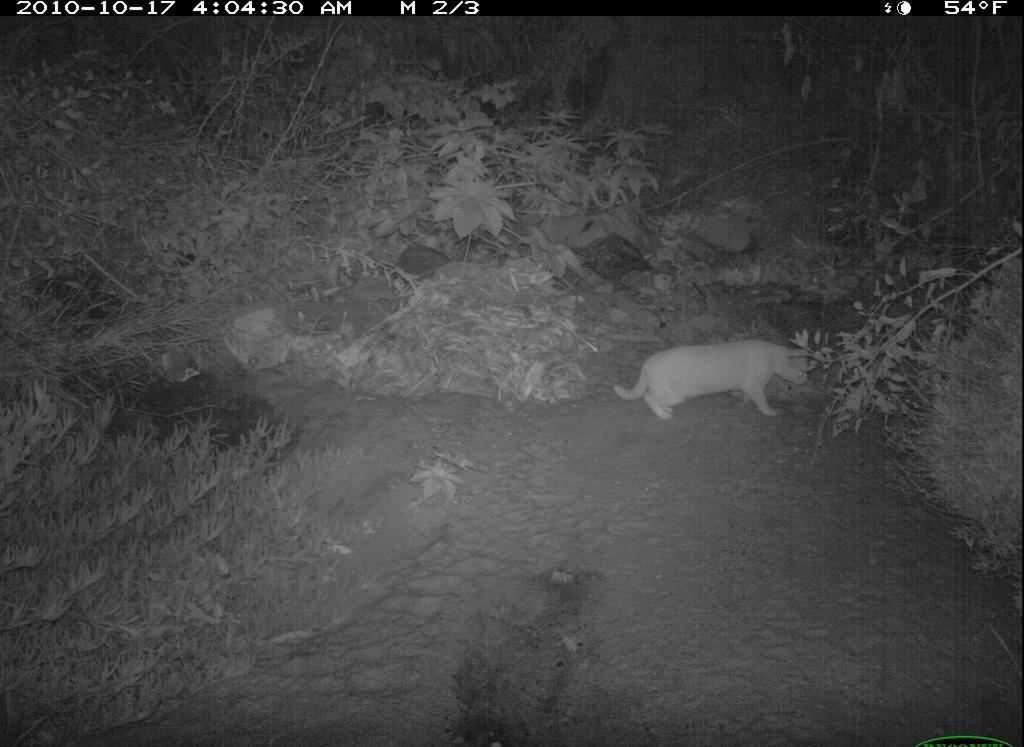cat: (603, 330, 816, 430)
